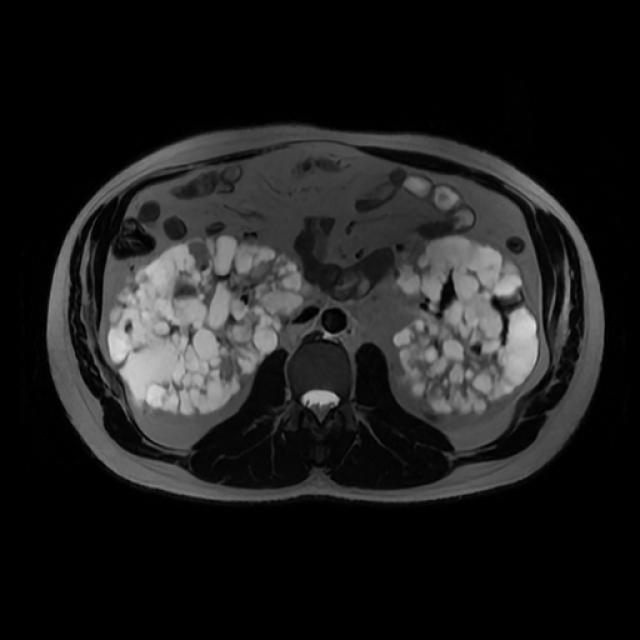sag: (106, 235, 328, 417)
sol: (391, 235, 541, 417)
